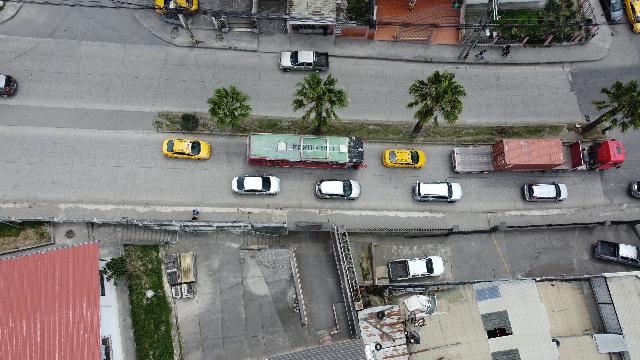Vehiculo: (388, 255, 444, 282), (594, 240, 640, 266), (279, 50, 329, 72), (162, 138, 210, 160), (414, 180, 462, 202), (316, 178, 360, 200), (232, 175, 280, 194), (524, 182, 568, 202), (382, 150, 426, 168), (155, 0, 199, 14), (624, 0, 640, 32), (599, 0, 622, 21), (0, 74, 16, 98), (630, 180, 640, 198)
